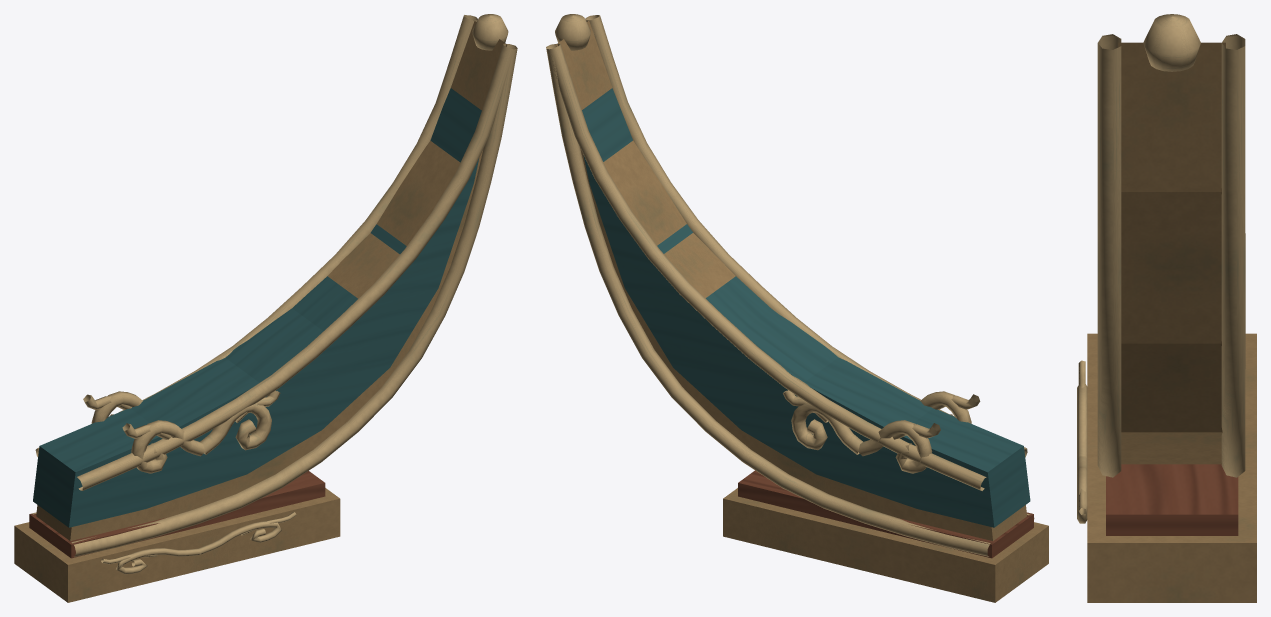
3 views of the same model, side by side, from view 1: azimuth 30°, elevation 25°; view 2: azimuth 150°, elevation 25°; view 3: azimuth 270°, elevation 25° (orthographic). The views are drawn at different scales.
Parts seen in each view (by area): view 1: RolledWing_teal, RolledWing_gold, RolledWing_bronze, FootSocket_bronze, FootSocket_heartwood, FootSocket_gold; view 2: RolledWing_teal, RolledWing_gold, FootSocket_bronze, RolledWing_bronze, FootSocket_heartwood; view 3: RolledWing_bronze, RolledWing_gold, FootSocket_bronze, FootSocket_heartwood, FootSocket_gold.
Boxes of the visible parts, x1=… form: RolledWing_teal: x1=33, y1=88, x2=481, y2=527; RolledWing_gold: x1=32, y1=14, x2=517, y2=557; RolledWing_bronze: x1=36, y1=20, x2=507, y2=541; FootSocket_bronze: x1=14, y1=488, x2=340, y2=602; FootSocket_heartwood: x1=29, y1=471, x2=325, y2=558; FootSocket_gold: x1=101, y1=512, x2=296, y2=574; RolledWing_teal: x1=582, y1=88, x2=1030, y2=527; RolledWing_gold: x1=546, y1=14, x2=1034, y2=556; FootSocket_bronze: x1=723, y1=488, x2=1048, y2=602; RolledWing_bronze: x1=556, y1=20, x2=1026, y2=540; FootSocket_heartwood: x1=738, y1=470, x2=1033, y2=558; RolledWing_bronze: x1=1118, y1=42, x2=1225, y2=464; RolledWing_gold: x1=1097, y1=14, x2=1245, y2=477; FootSocket_bronze: x1=1087, y1=333, x2=1256, y2=602; FootSocket_heartwood: x1=1106, y1=464, x2=1238, y2=535; FootSocket_gold: x1=1077, y1=360, x2=1087, y2=523.
Bounding box in the file's own units: 2.05 × 1.93 × 0.435.
4 materials, 4 textured.
